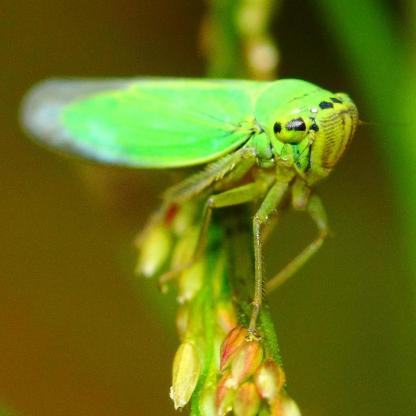Green-Leafhopper: (13, 72, 368, 340)
